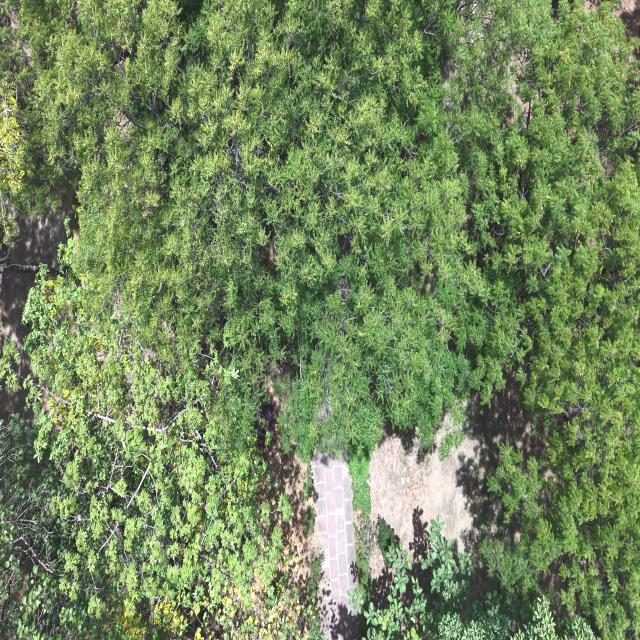DRY_AREA: (369, 374, 542, 565), (369, 374, 542, 562), (369, 375, 542, 560), (369, 376, 540, 555), (369, 384, 536, 555), (260, 397, 357, 639), (258, 402, 353, 639), (267, 434, 357, 639), (267, 437, 357, 639), (370, 434, 480, 553), (369, 436, 477, 553), (0, 202, 69, 375), (258, 400, 313, 591), (0, 211, 65, 350), (311, 455, 356, 639), (611, 0, 639, 36)
PATHWAYS: (312, 454, 357, 639)
VEGETATION_TREE: (1, 0, 639, 639), (14, 2, 635, 456), (14, 1, 481, 455), (0, 272, 315, 639), (483, 3, 639, 639), (353, 517, 593, 639)
